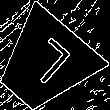L_SW: (16, 35, 73, 93)
